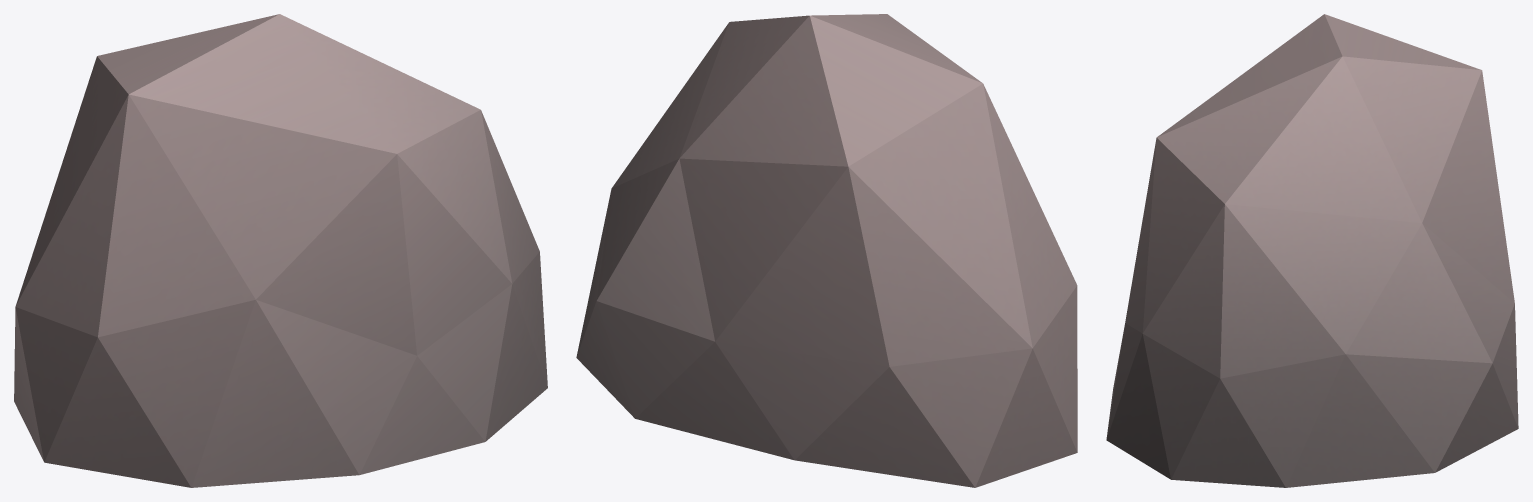
File: SM_Rock02_Var1.fbx
3 renders of one model, left to right at view 1: azimuth 30°, elevation 25°; view 2: azimuth 150°, elevation 25°; view 3: azimuth 270°, elevation 25°, orthographic. The views are drawn at different scales.
Parts seen in each view (by area): view 1: BigRock02; view 2: BigRock02; view 3: BigRock02.
Boxes of the visible parts, bbox=[...] form: BigRock02: bbox=[14, 14, 547, 487]; BigRock02: bbox=[576, 14, 1077, 487]; BigRock02: bbox=[1106, 14, 1518, 487].
Bounding box in the file's own units: 390 × 302 × 311.
